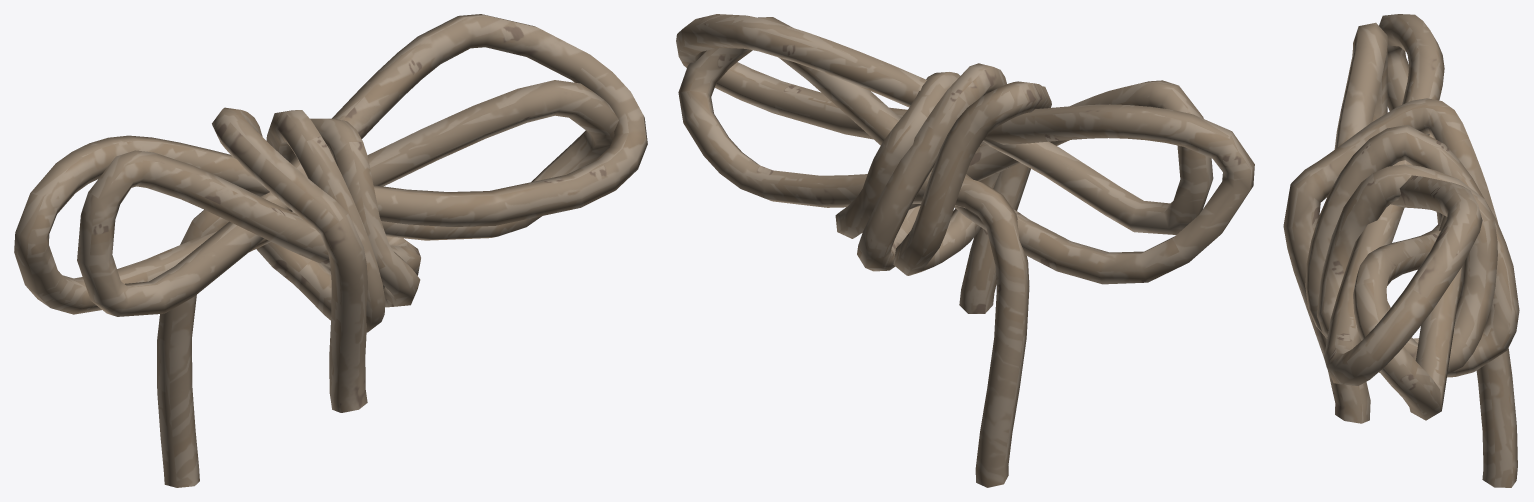
File: LP_RopeBundled.glb
3 renders of one model, left to right at view 1: azimuth 30°, elevation 25°; view 2: azimuth 150°, elevation 25°; view 3: azimuth 270°, elevation 25°, orthographic. The views are drawn at different scales.
Visible parts, largest first — view 1: LP_RopeBundled; view 2: LP_RopeBundled; view 3: LP_RopeBundled.
Part boxes in pixels (box(x1,y1,x2,y2)): LP_RopeBundled: box(14, 14, 647, 487); LP_RopeBundled: box(676, 14, 1254, 487); LP_RopeBundled: box(1283, 14, 1519, 487).
Size of the model in its own units: 1.19 by 0.7621 by 0.3991.
1 material, 1 textured.
